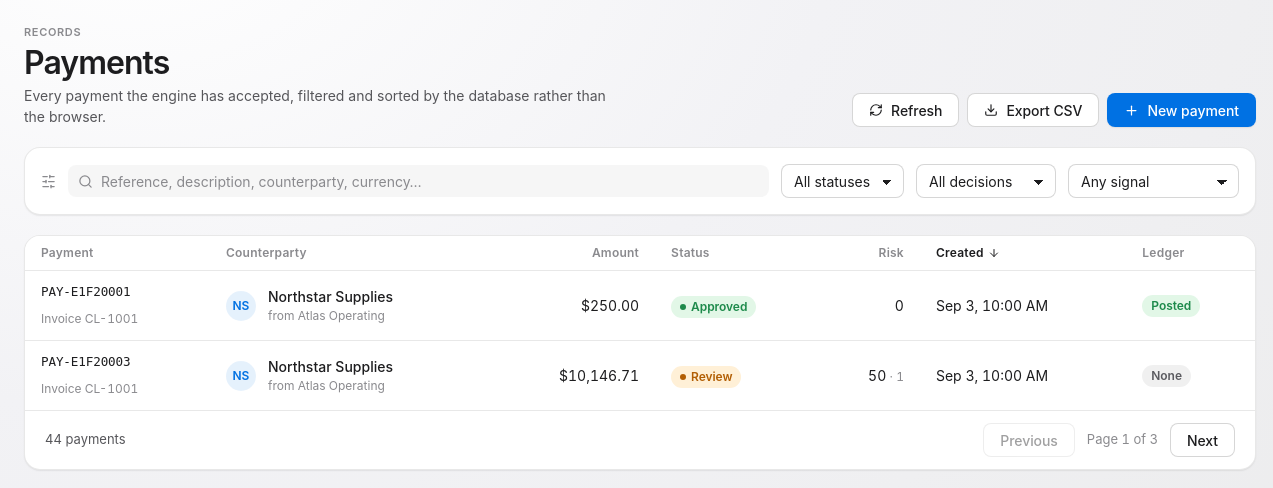
Test: payments page › pages through results using the server-reported totals
This screenshot has width=1273, height=488.
expect the text "44 payments" is shown: met, box [45,430,126,450]
expect the text "Page 1 of 3" is shown: met, box [1087,430,1158,450]
Click the button "Next" at point(1202, 440), box [1170,423,1235,457]
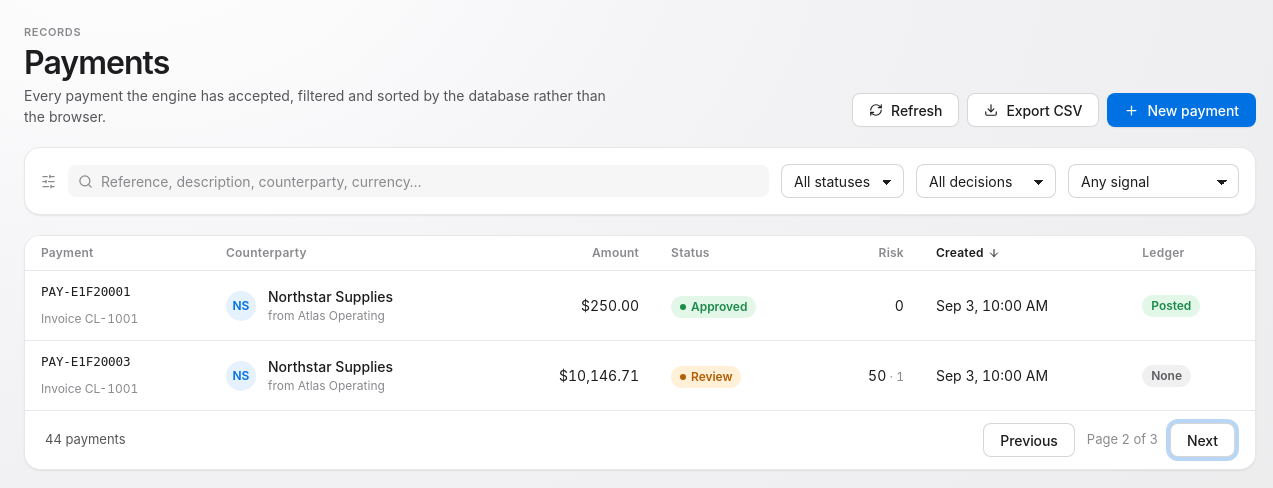
expect the text "Page 2 of 3" is shown: met, box [1087,430,1158,450]
